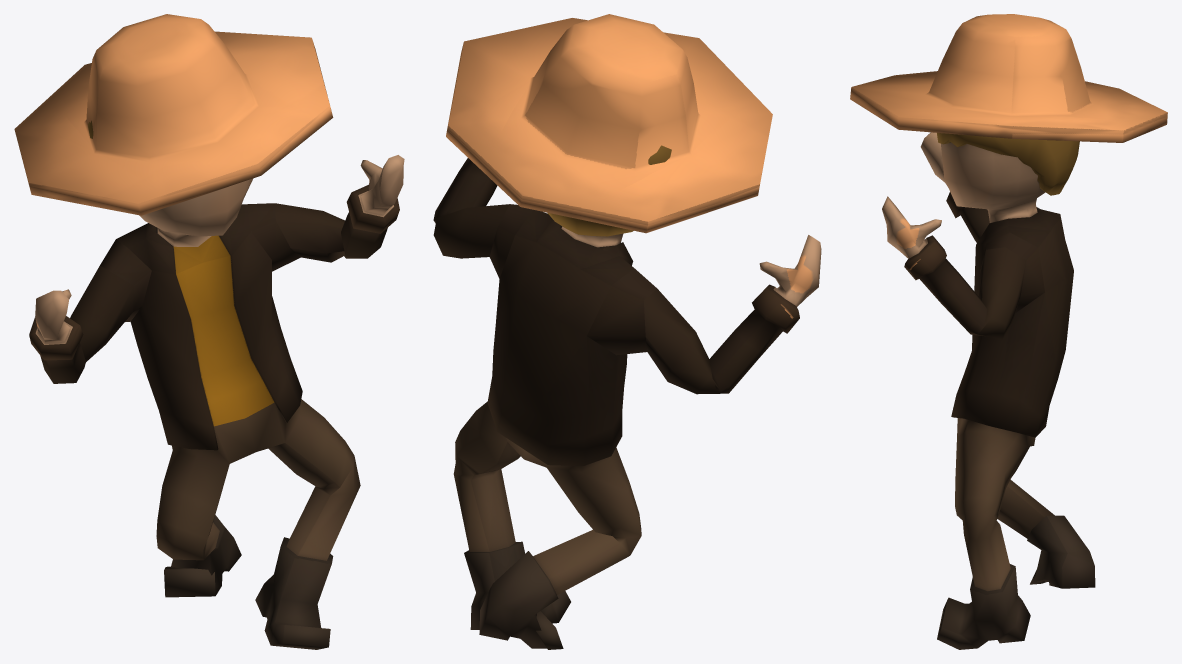
Rendered from justus_jump.obj.
3 views of the same model, side by side, from view 1: azimuth 30°, elevation 25°; view 2: azimuth 150°, elevation 25°; view 3: azimuth 270°, elevation 25° (orthographic). The views are drawn at different scales.
Visible parts, largest first — view 1: Character_Cube; view 2: Character_Cube; view 3: Character_Cube.
Boxes of the visible parts, x1,y1,x2,y2 form: Character_Cube: [14, 14, 404, 649]; Character_Cube: [433, 14, 821, 649]; Character_Cube: [850, 14, 1167, 649].
Bounding box in the file's own units: 1.05 × 1.76 × 0.8806.
